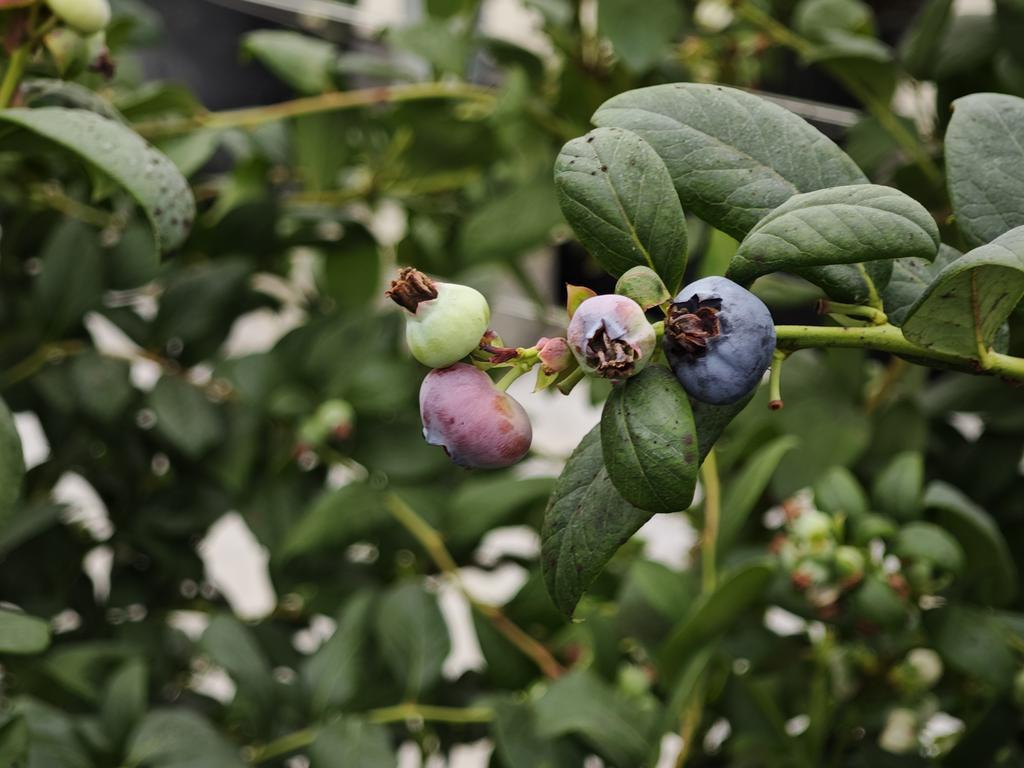RipeBlueBerry: (662, 271, 776, 409)
Semi-RipeBlueBerry: (417, 363, 537, 473), (566, 297, 659, 381)
UnripeBlueBerry: (401, 269, 494, 364)
